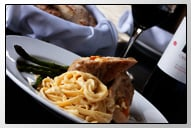soup: (66, 56, 139, 123)
sushi: (5, 34, 155, 123)
